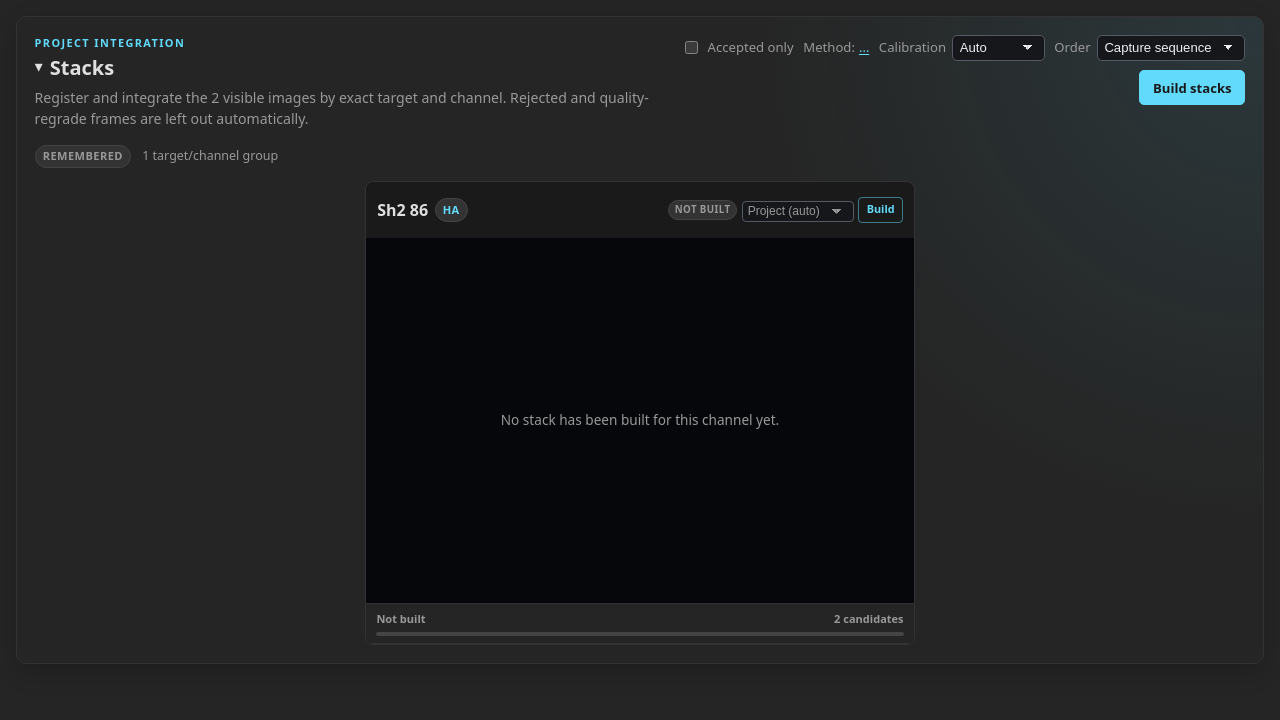
Test: StackPreviewPanel stop › stops a running build and reports the channel as stopped
The image size is (1280, 720).
What coordinates should you click on to do the following:
click the button "Build stacks"
I would click on:
 (1192, 88)
Its box is [1139, 70, 1245, 105].
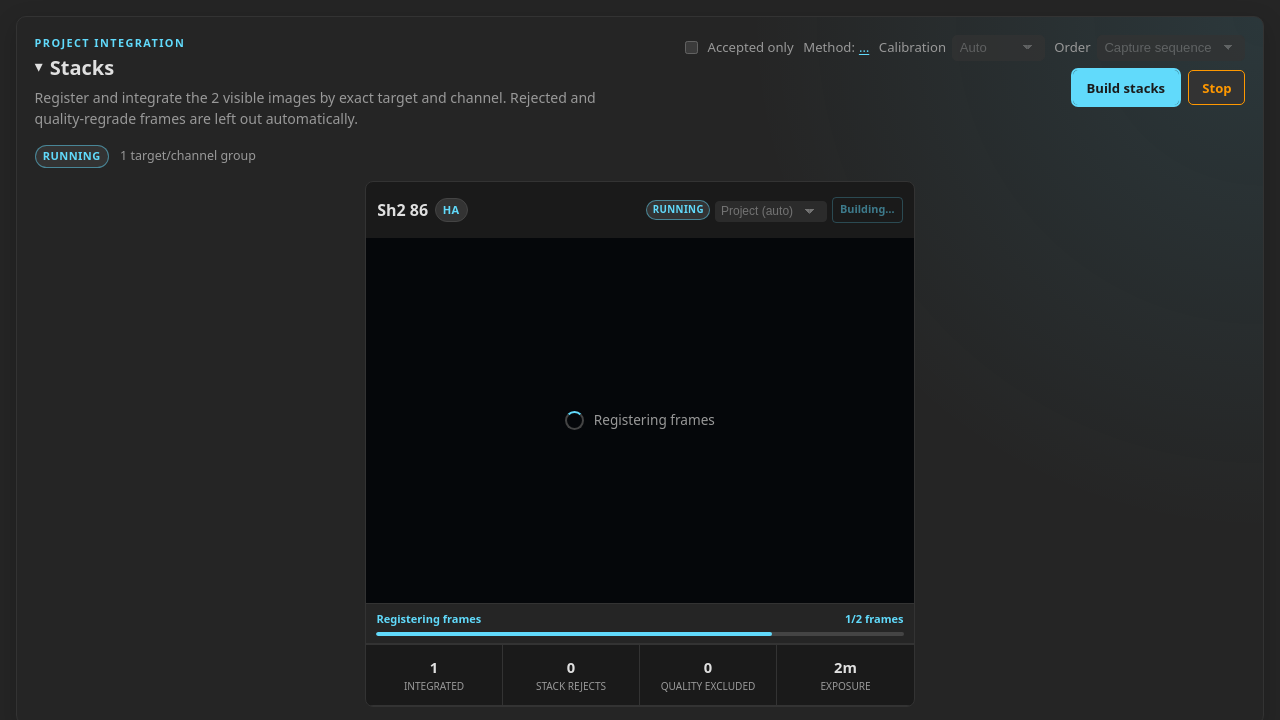
Check: the button "Build stacks" is enabled, box [1073, 70, 1179, 105]
Check: the button "Stop" is shown
Note: Found again: the panel may draw the button anew as the job is polled.
What coordinates should you click on to do the following:
click the button "Stop"
I would click on:
 (1217, 88)
Its box is [1188, 70, 1245, 105].
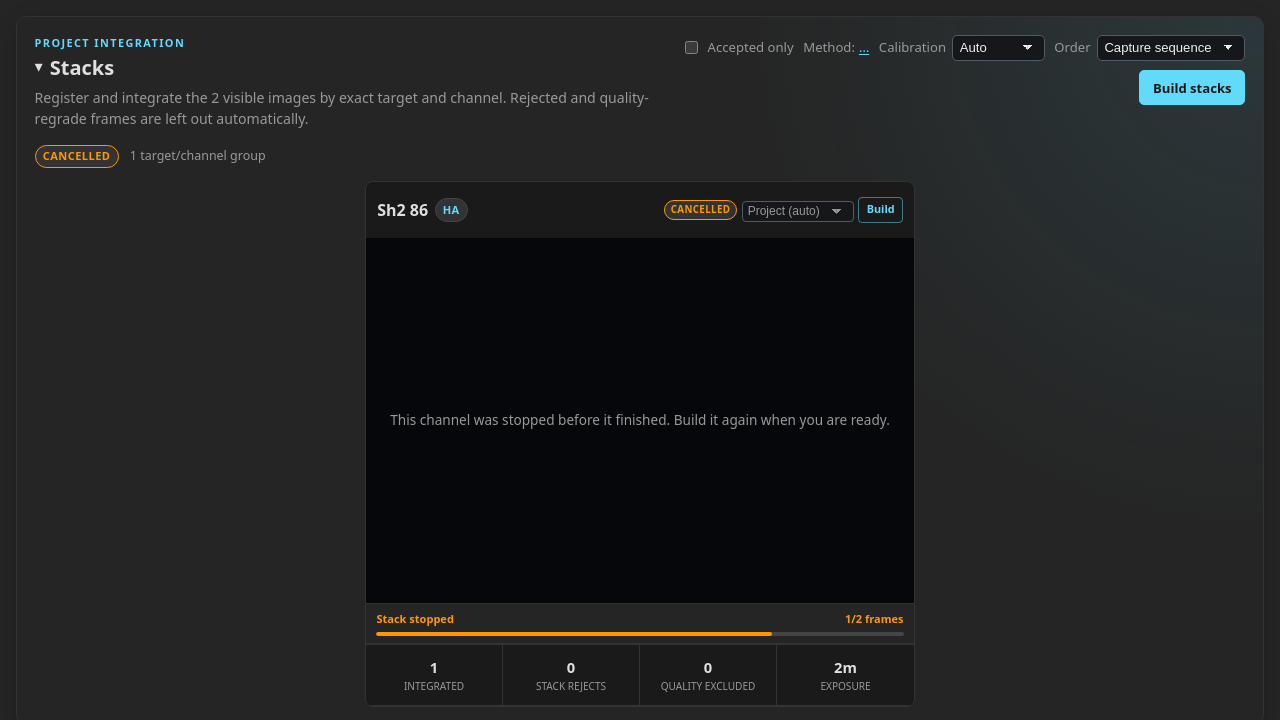
Check: the text "Stack stopped" is shown, box [376, 611, 454, 627]
